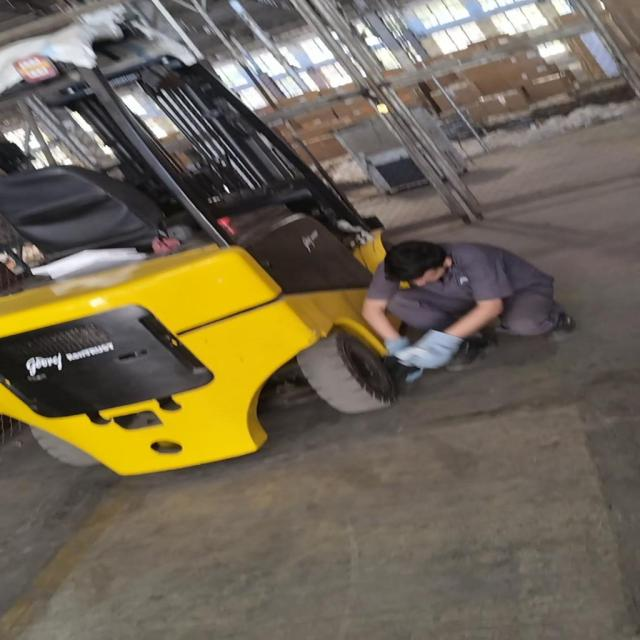Gloves-Detection: (381, 330, 465, 372)
